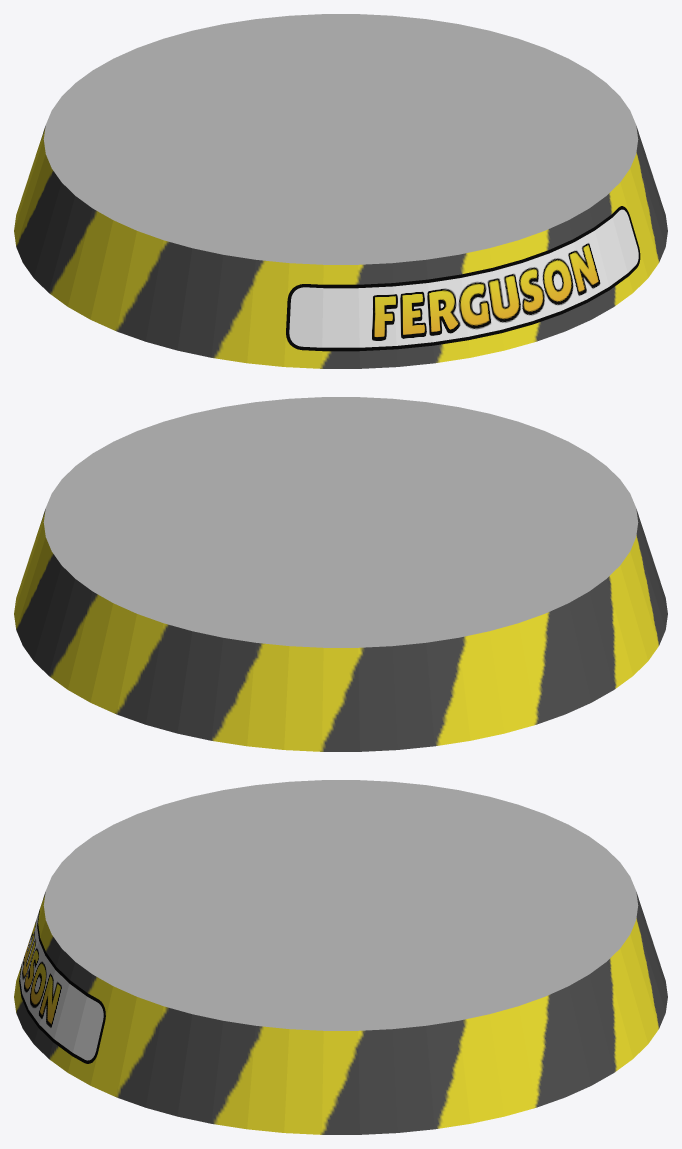
The model's file is HeroStand.fbx.
The picture shows the model from 3 angles, top to bottom: view 1: azimuth 30°, elevation 25°; view 2: azimuth 150°, elevation 25°; view 3: azimuth 270°, elevation 25°; orthographic projection.
Visible parts, largest first — view 1: Cylinder; view 2: Cylinder; view 3: Cylinder.
Boxes of the visible parts, bbox=[...] form: Cylinder: bbox=[14, 14, 667, 368]; Cylinder: bbox=[14, 397, 667, 751]; Cylinder: bbox=[14, 780, 667, 1134].
Bounding box in the file's own units: 349 × 54.03 × 350.
4 materials, 2 textured.
